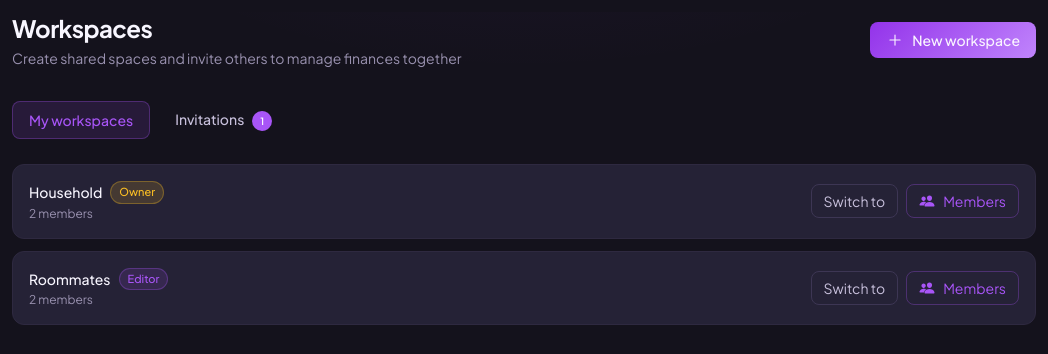
Test: Workspaces - received invitations › accepts a received invitation and refreshes the workspace list
Expected: the text "Household" is shown, [29, 182, 102, 202]
Click the button "Invitations 1" at [224, 120], box [158, 100, 289, 140]
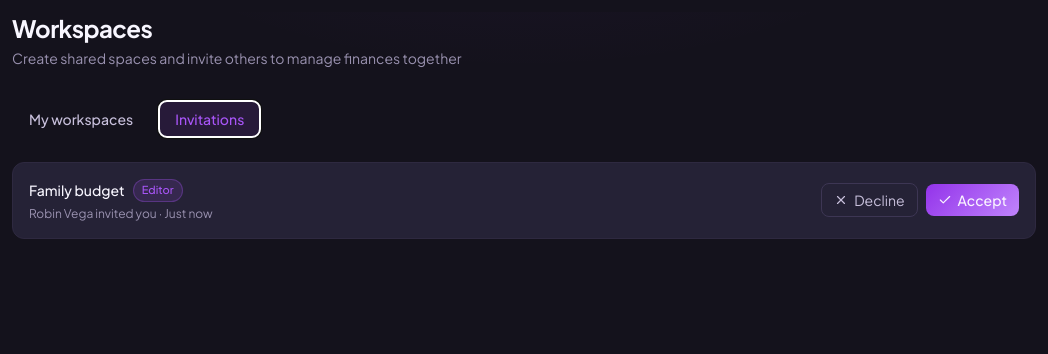
Now the text "Family budget" is shown, box [29, 180, 125, 200]
Click the button "Accept" at [972, 200], box [926, 184, 1019, 216]
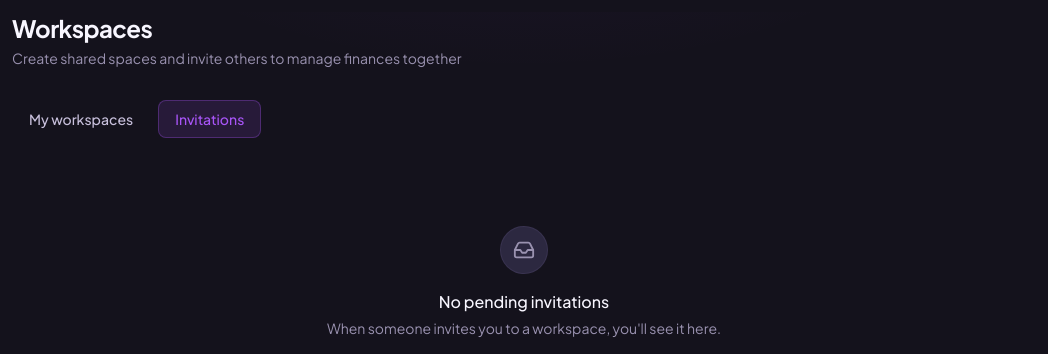
Now the text "Family budget" is gone
